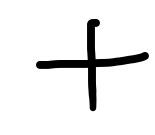plus: (37, 18, 147, 111)
